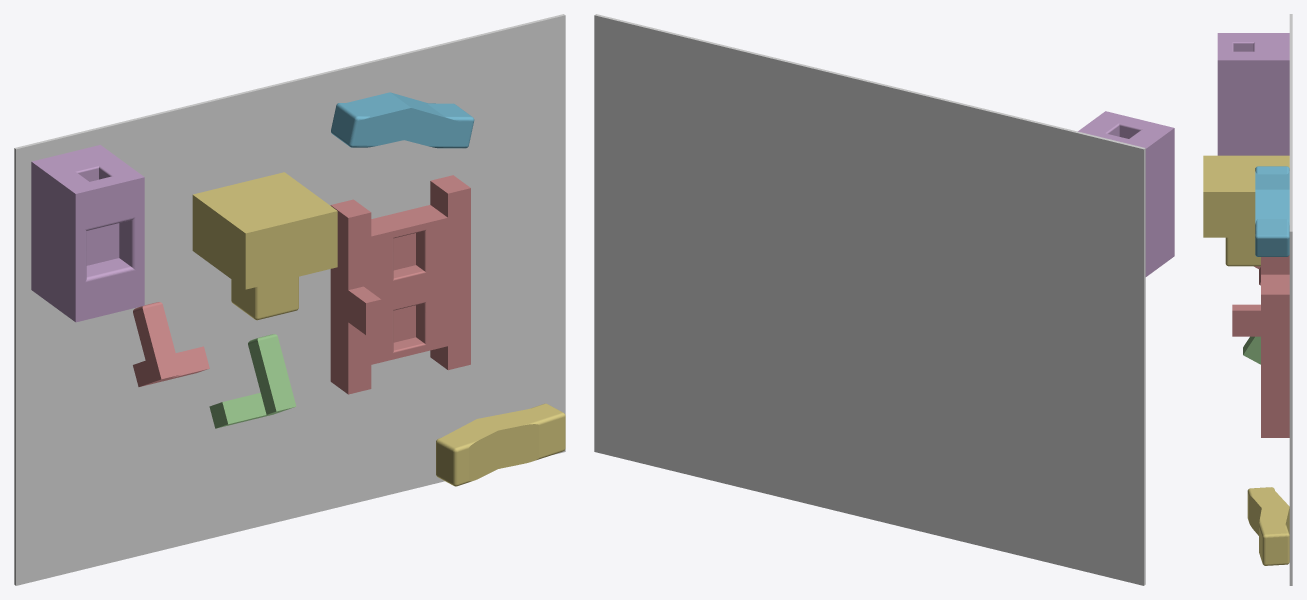
The model's file is pickup_layout.glb.
The picture shows the model from 3 angles, left to right: view 1: azimuth 30°, elevation 25°; view 2: azimuth 150°, elevation 25°; view 3: azimuth 270°, elevation 25°; orthographic projection. The views are drawn at different scales.
Parts seen in each view (by area): view 1: world, 0.obj, 3.obj, 6.obj, 1.obj, 2.obj, 4.obj, 5.obj; view 2: world, 3.obj; view 3: 3.obj, 0.obj, 6.obj, 2.obj, 1.obj, world, 4.obj.
Part boxes in pixels (bbox=[...]): world: bbox=[14, 14, 565, 585]; 0.obj: bbox=[330, 175, 470, 394]; 3.obj: bbox=[31, 145, 144, 322]; 6.obj: bbox=[192, 172, 337, 320]; 1.obj: bbox=[436, 403, 565, 486]; 2.obj: bbox=[331, 92, 474, 148]; 4.obj: bbox=[209, 334, 296, 428]; 5.obj: bbox=[133, 302, 209, 386]; world: bbox=[594, 14, 1145, 585]; 3.obj: bbox=[1078, 111, 1174, 276]; 3.obj: bbox=[1217, 33, 1289, 155]; 0.obj: bbox=[1232, 255, 1289, 437]; 6.obj: bbox=[1203, 155, 1289, 266]; 2.obj: bbox=[1255, 166, 1289, 256]; 1.obj: bbox=[1247, 487, 1289, 565]; world: bbox=[1289, 14, 1292, 585]; 4.obj: bbox=[1243, 336, 1260, 364].
Size of the model in its own units: 35.82 by 27.2 by 6.2.
